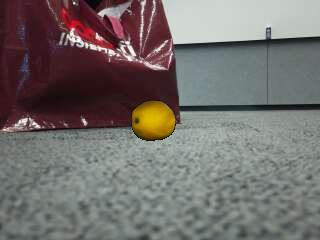lemon: (131, 102, 174, 141)
